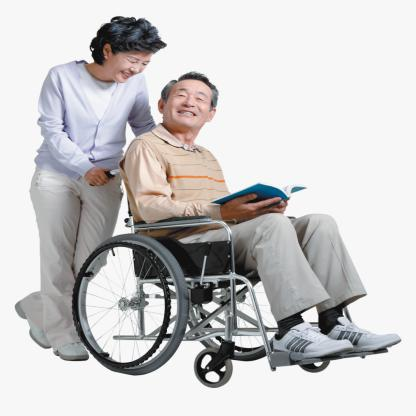wheelchair: (75, 66, 404, 385)
